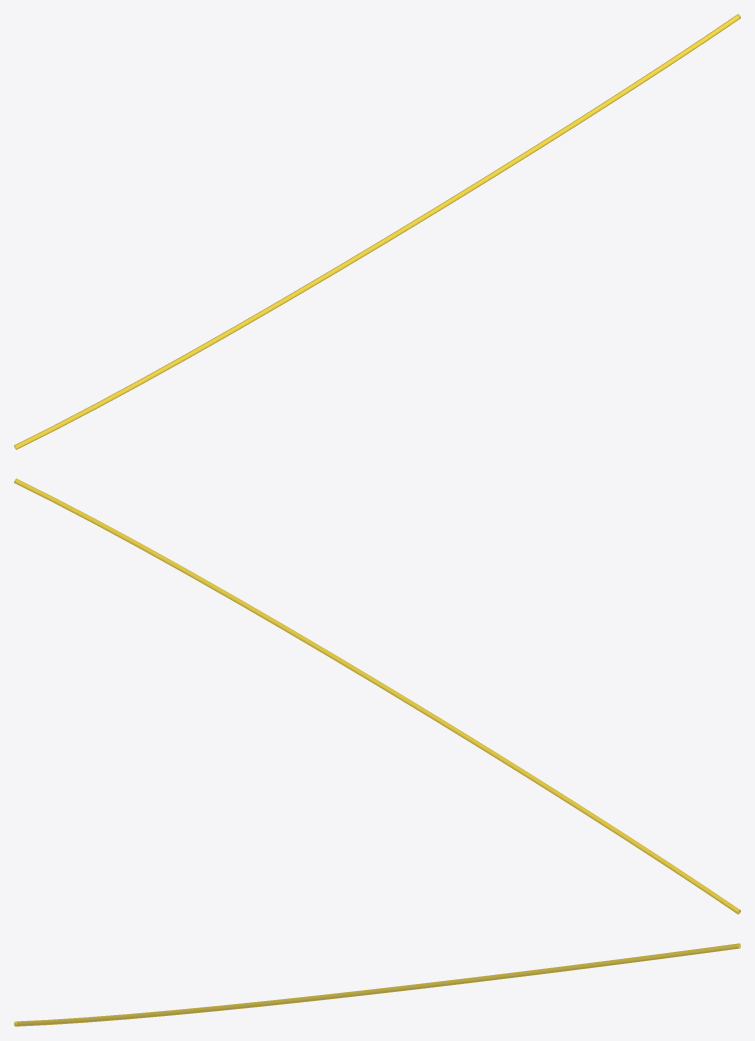
The model's file is Event_402970704_track_10.fbx.
3 views of the same model, one above another, from view 1: azimuth 30°, elevation 25°; view 2: azimuth 150°, elevation 25°; view 3: azimuth 330°, elevation 25° (orthographic).
Parts seen in each view (by area): view 1: Model; view 2: Model; view 3: Model.
Boxes of the visible parts, <box> form: Model: <box>14,14,740,449</box>; Model: <box>14,478,740,914</box>; Model: <box>14,943,740,1026</box>.
Bounding box in the file's own units: 6.34 × 2.17 × 0.1954.
